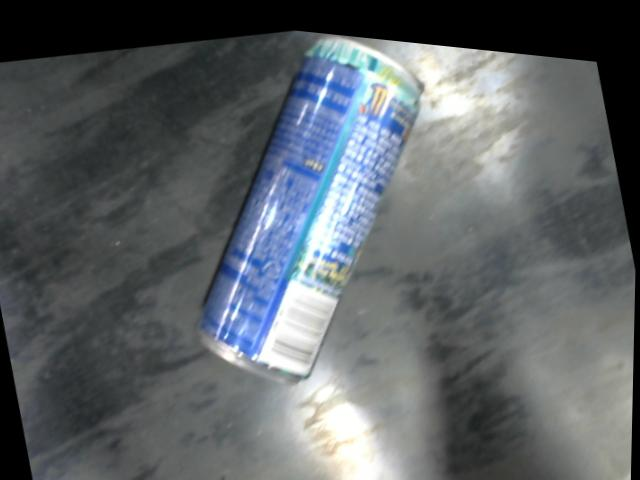can: (194, 27, 426, 385)
